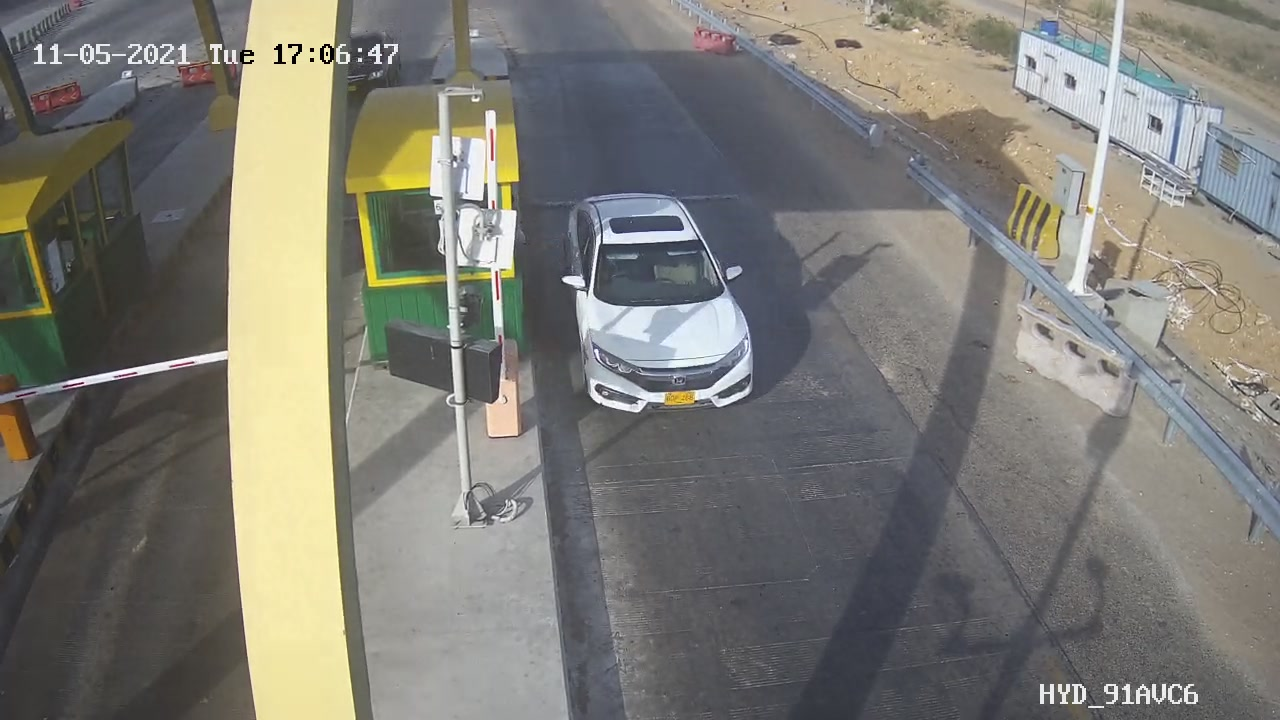F1: (539, 173, 790, 430)
